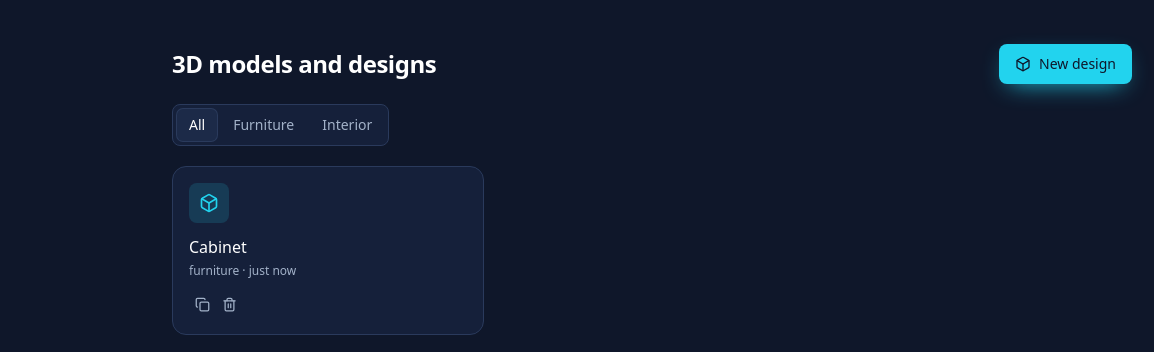
it: Home and Designs point to the room designer › opens a furniture design in the editor
Click the text "Cabinet": (218, 247) [189, 236, 247, 258]
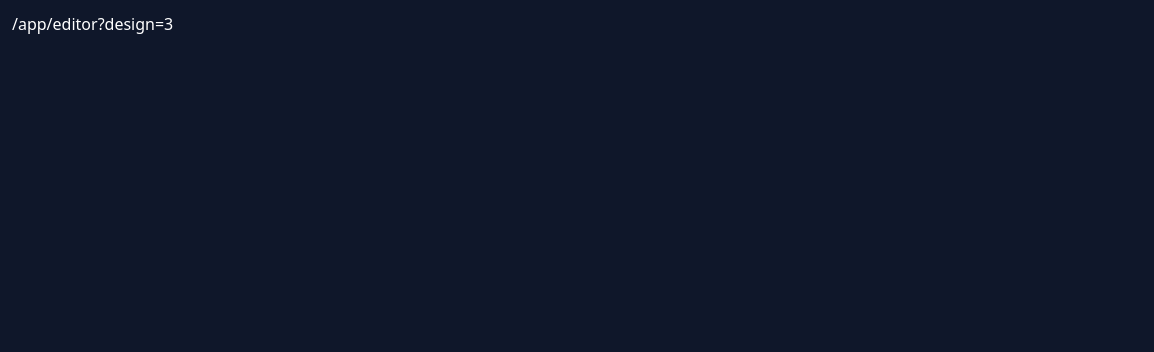
Now the text with test id "where" reads "/app/editor?design=3", box [12, 13, 173, 35]
